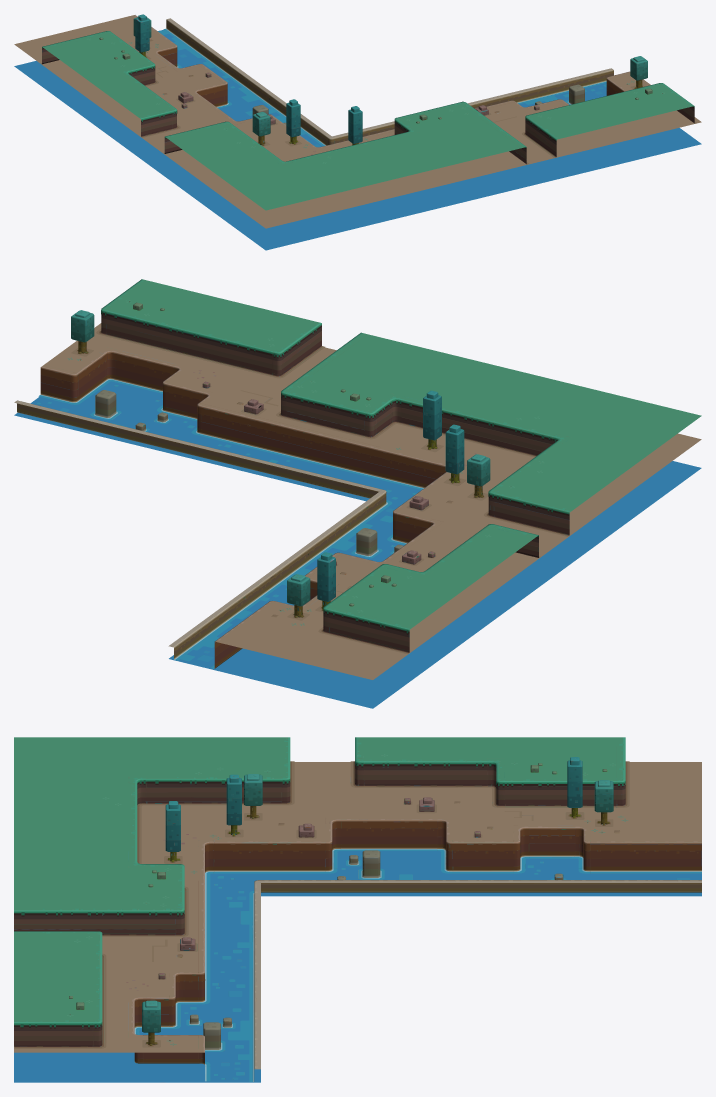
Rendered from C_water1_out_RU.fbx.
3 renders of one model, top to bottom at view 1: azimuth 30°, elevation 25°; view 2: azimuth 150°, elevation 25°; view 3: azimuth 270°, elevation 25°, orthographic. The views are drawn at different scales.
Parts seen in each view (by area): view 1: C_water1_out_RU; view 2: C_water1_out_RU; view 3: C_water1_out_RU.
Part boxes in pixels (x1,y1,x2,y2): C_water1_out_RU: (14, 14, 701, 250); C_water1_out_RU: (14, 279, 701, 708); C_water1_out_RU: (14, 737, 701, 1082).
Bounding box in the file's own units: 117 × 16.47 × 117.
Materials: 1 (1 with a texture image).
